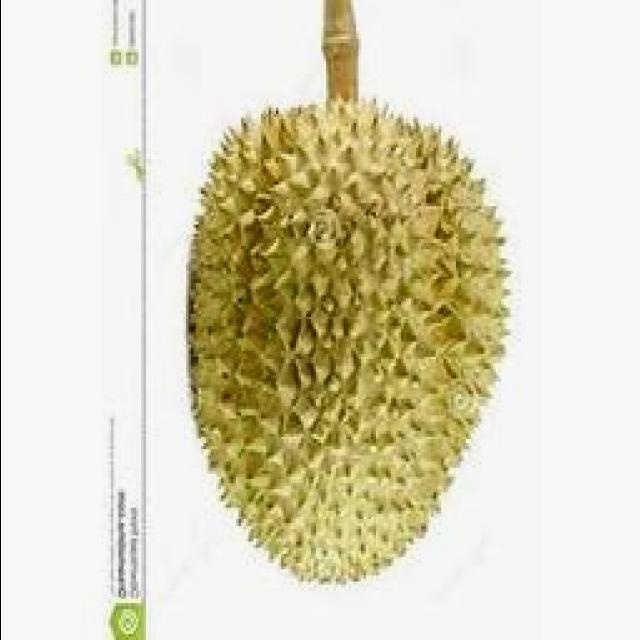agrume: (170, 87, 550, 585)
